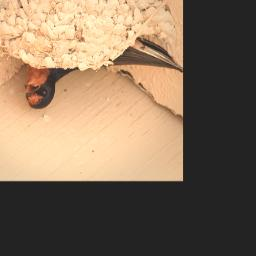Swallow: (23, 29, 183, 111)
